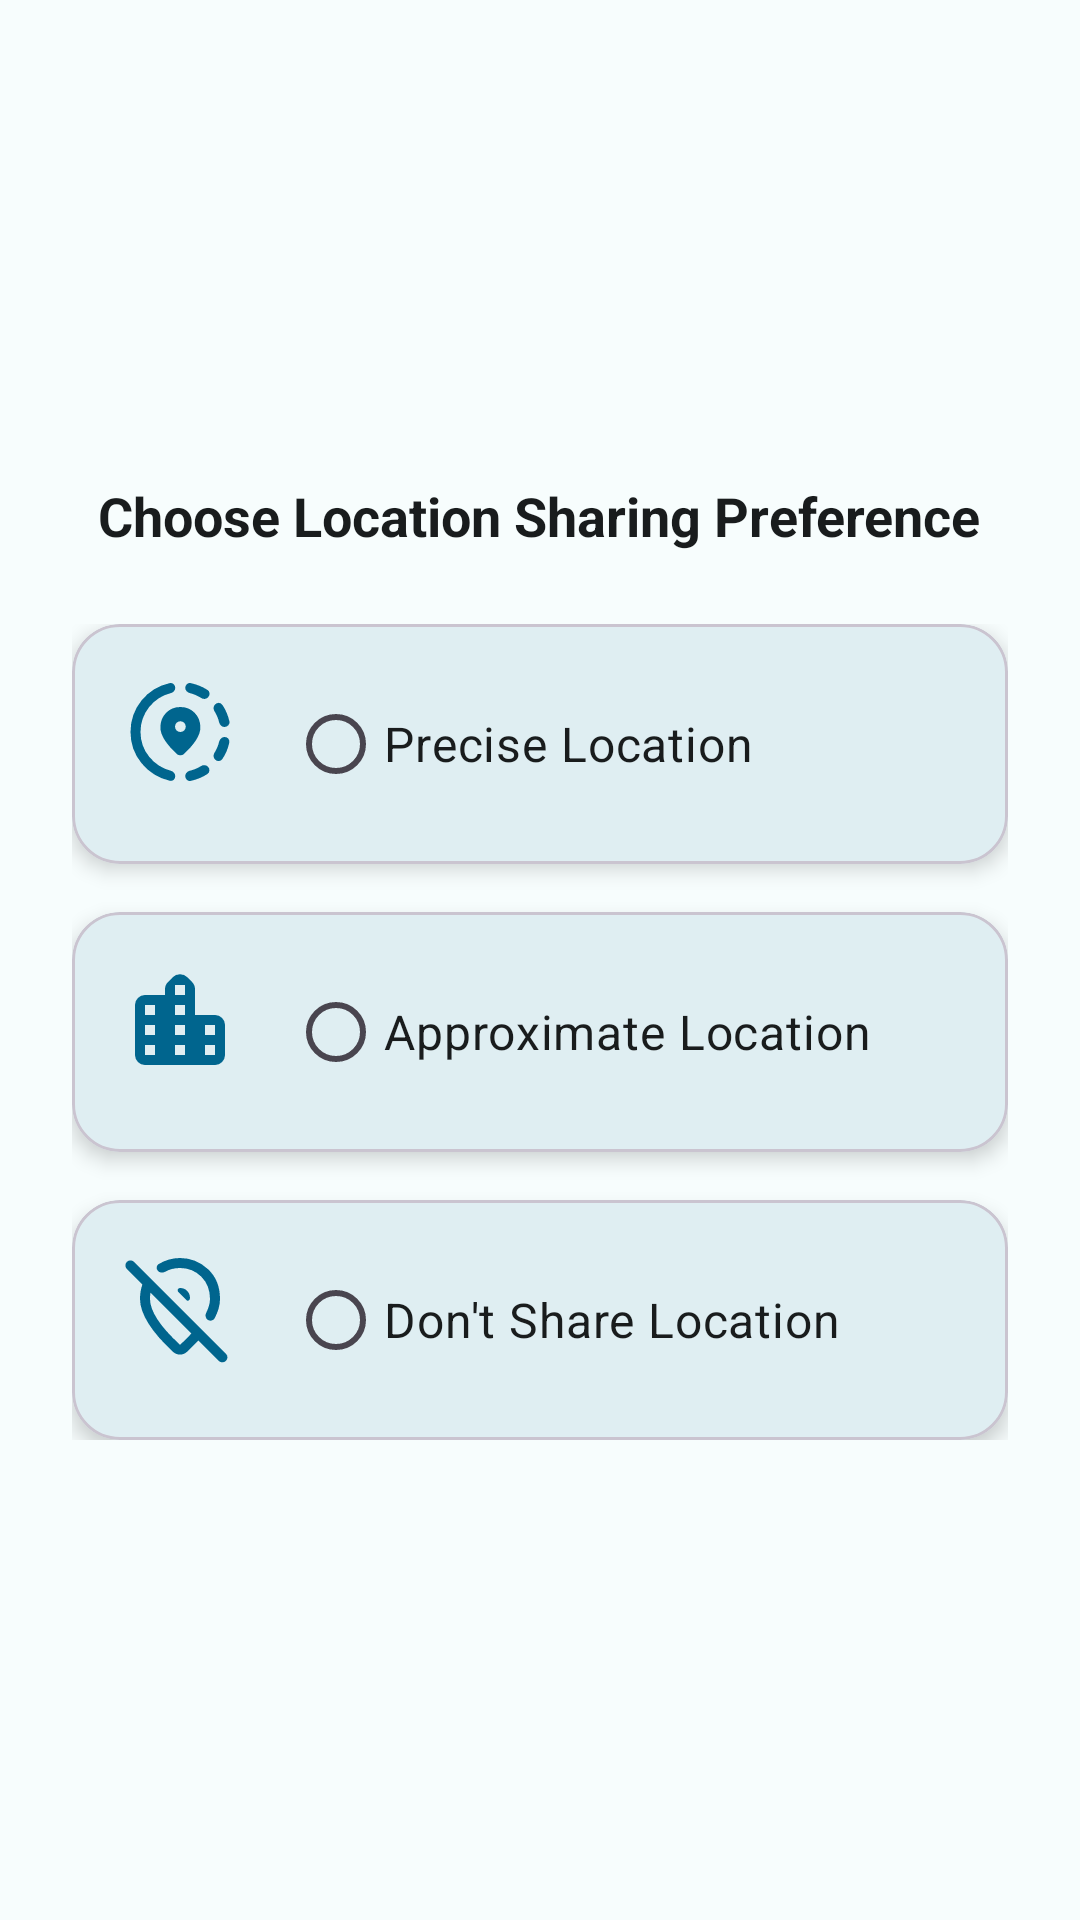

Where to tap for icons on this 1080w x 1920h app screen, as point (x, y):
location approx: point (180, 1019)
location none: point (176, 1310)
